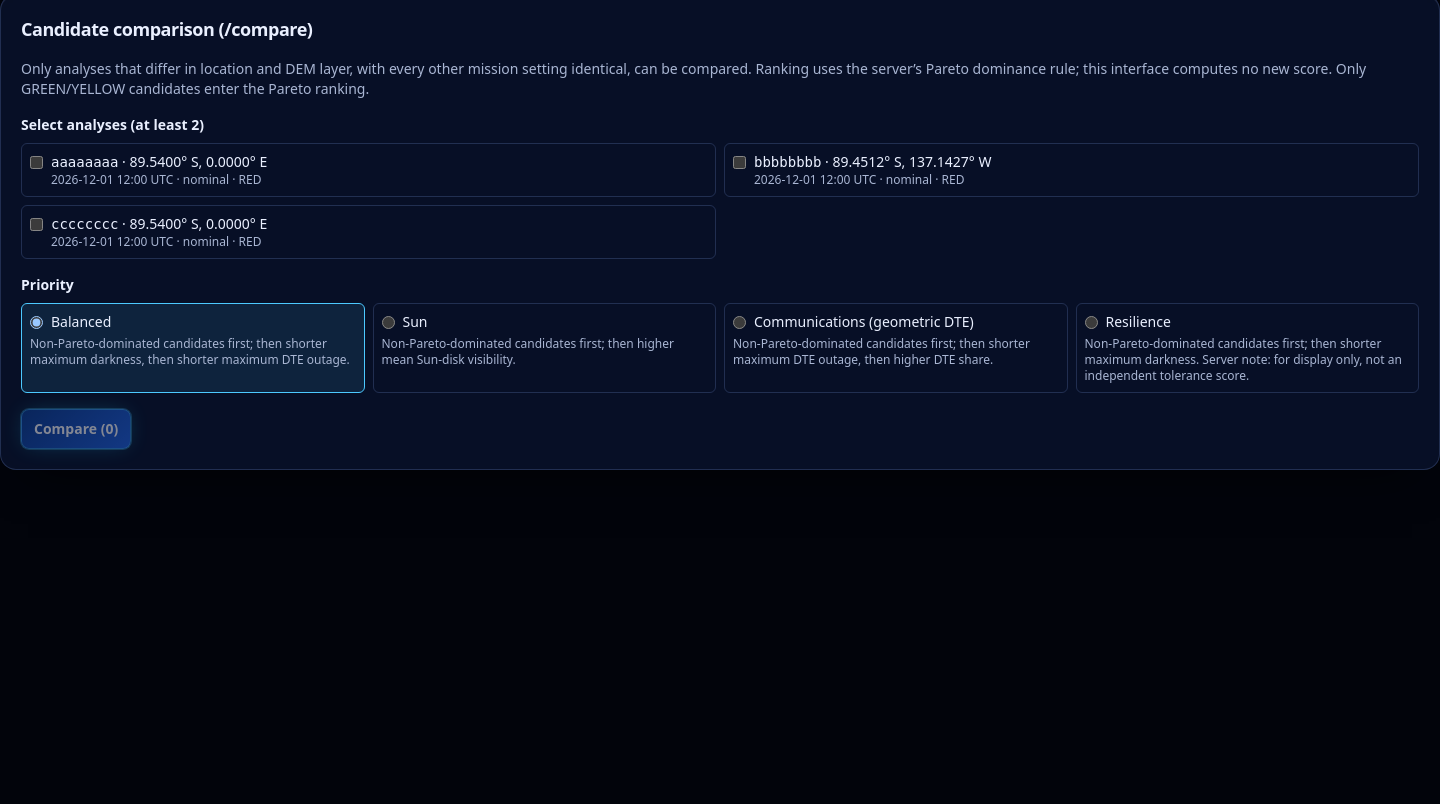
Test: ComparePanel › only allows identical mission profiles and shows excluded RED candidates with reasons
The image size is (1440, 804).
Step 1. Click the checkbox labelled "aaaaaaaa" → (36, 162), box [30,156,43,169]
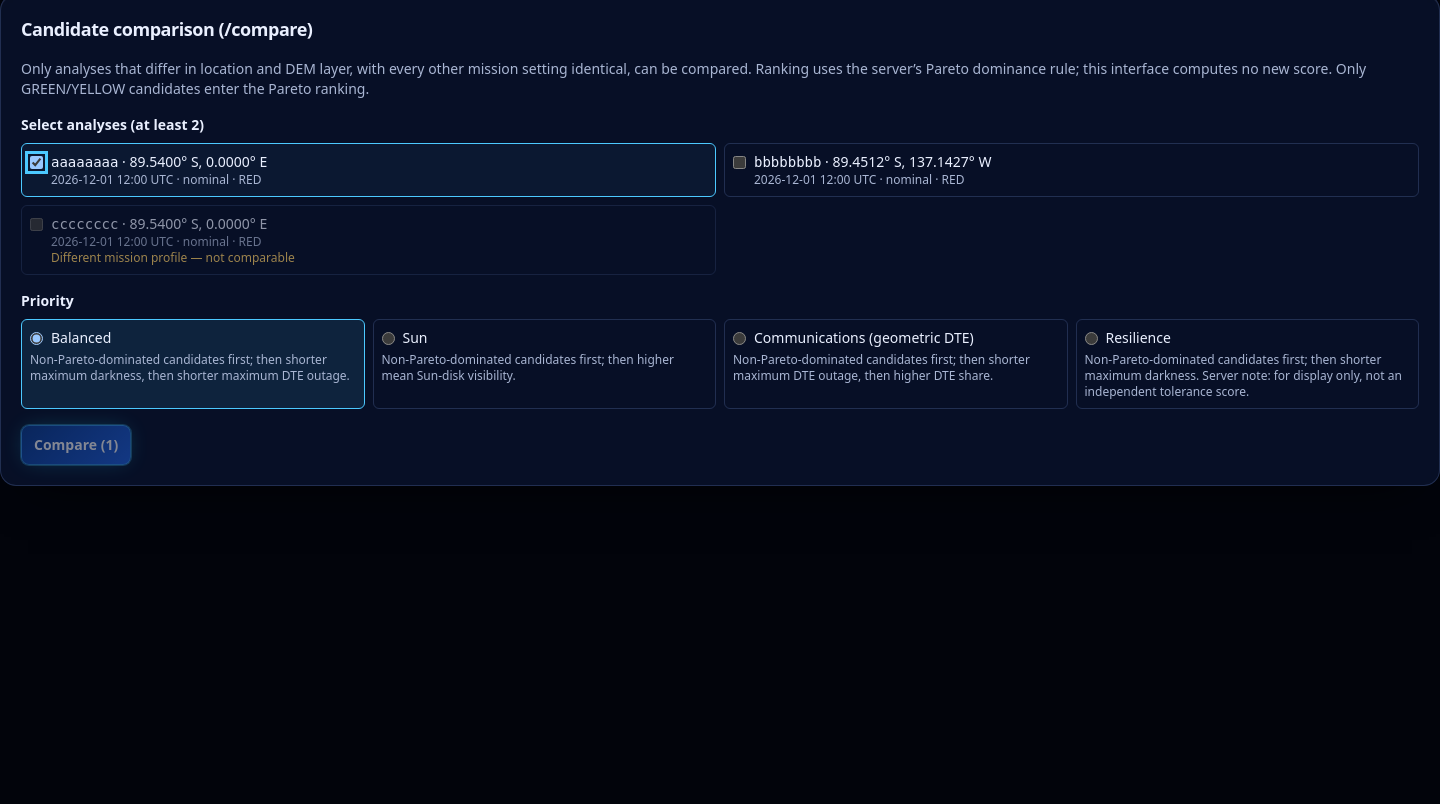
Check: the checkbox labelled "cccccccc" is disabled, box [30,218,43,231]
Check: the text "Different mission profile — not comparable" is shown, box [51,250,295,266]
Step 2. Click the checkbox labelled "bbbbbbbb" → (740, 162), box [733,156,746,169]
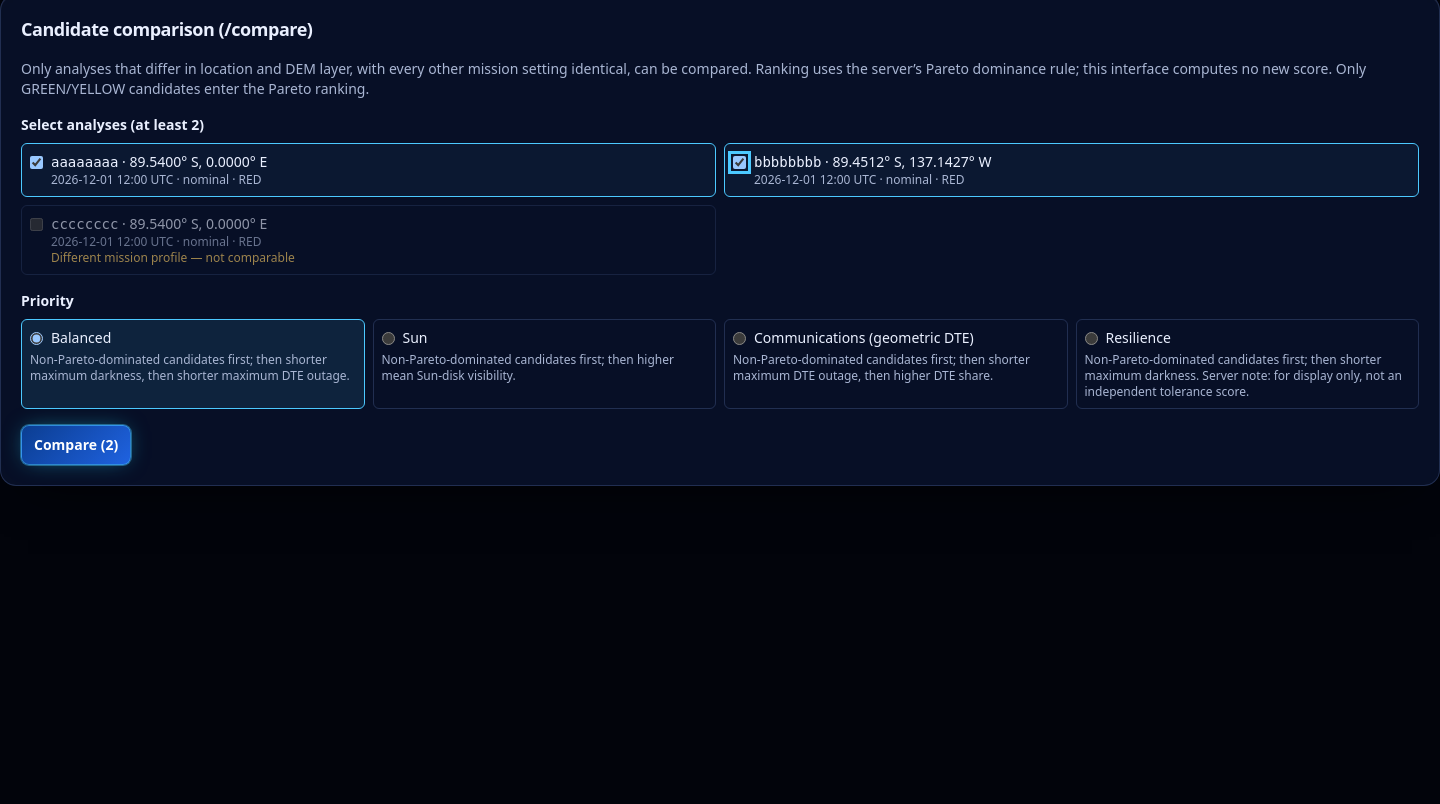
Step 3. Click the button "Compare (2)" → (76, 445), box [21,425,131,465]
(page scrolled)
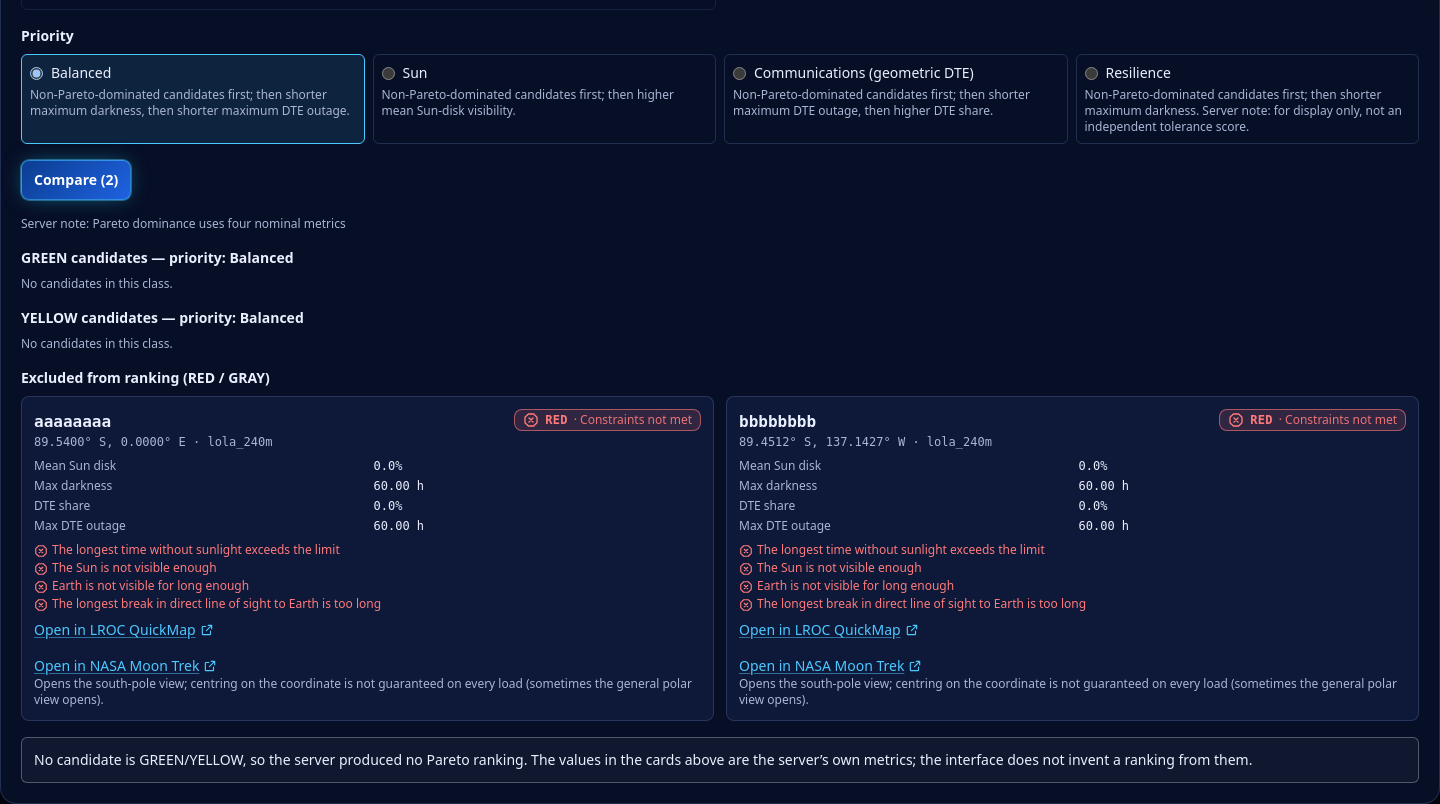
Check: the text "RED" is shown 2 times, box [545,412,568,428]; [1250,412,1273,428]
Check: the 1st list item "Earth is not visible for long enough" is shown, box [34,577,249,594]
Check: the number of links "Open in LROC QuickMap" is 2, box [34,620,214,640]; [739,620,919,640]
